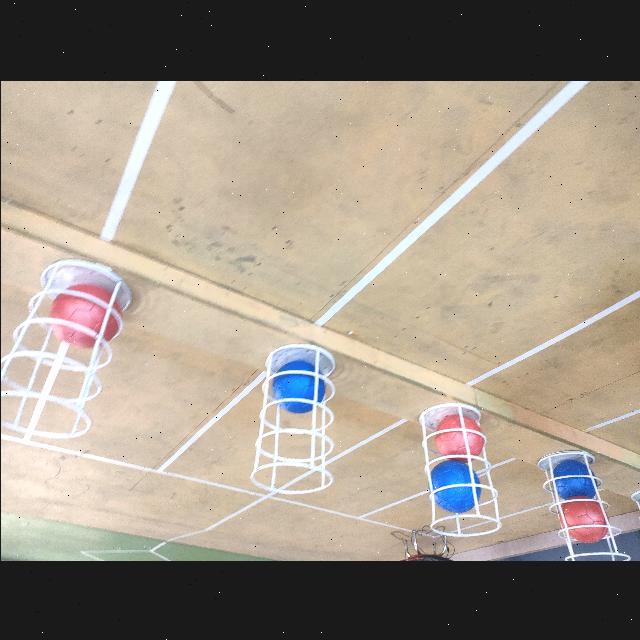B: (272, 358, 326, 414), (428, 458, 480, 514), (552, 458, 596, 499)
R: (48, 285, 120, 347), (434, 414, 484, 461), (558, 496, 608, 542)
